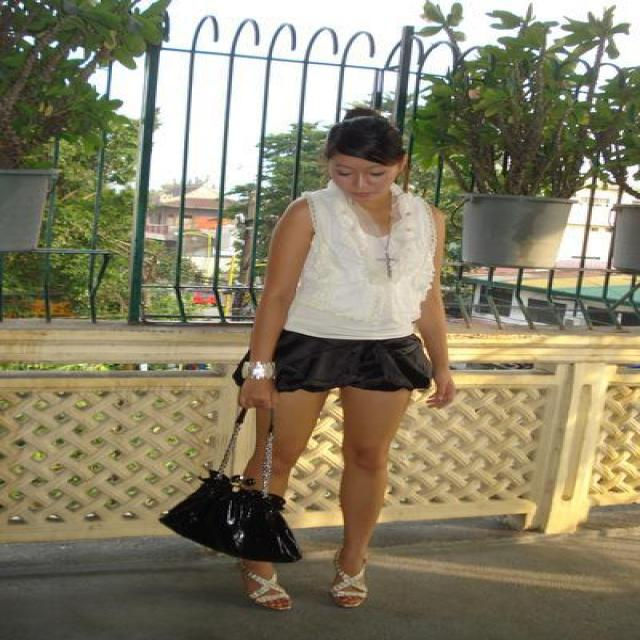bag: (158, 469, 301, 562)
shirt: (284, 206, 454, 339)
shoe: (250, 568, 366, 600)
shorts: (272, 328, 434, 394)
